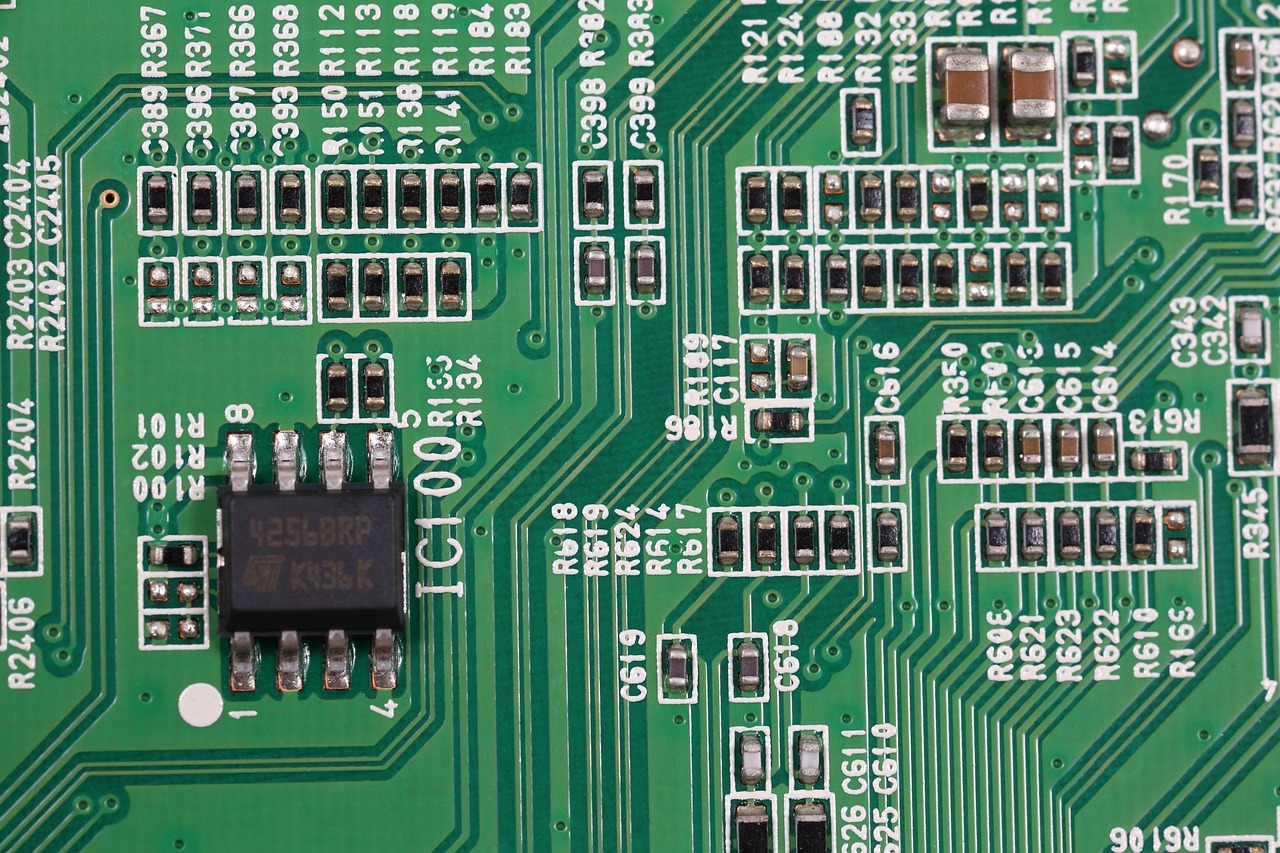kondensator: (928, 46, 993, 140), (1004, 35, 1054, 132), (794, 722, 827, 789), (581, 238, 614, 300), (733, 727, 768, 782), (1053, 419, 1087, 475), (733, 641, 763, 701), (872, 422, 899, 483), (1230, 305, 1261, 358), (1228, 32, 1255, 88), (783, 344, 814, 391), (1017, 419, 1042, 474), (661, 644, 688, 694), (1095, 416, 1120, 467), (637, 242, 660, 286)
